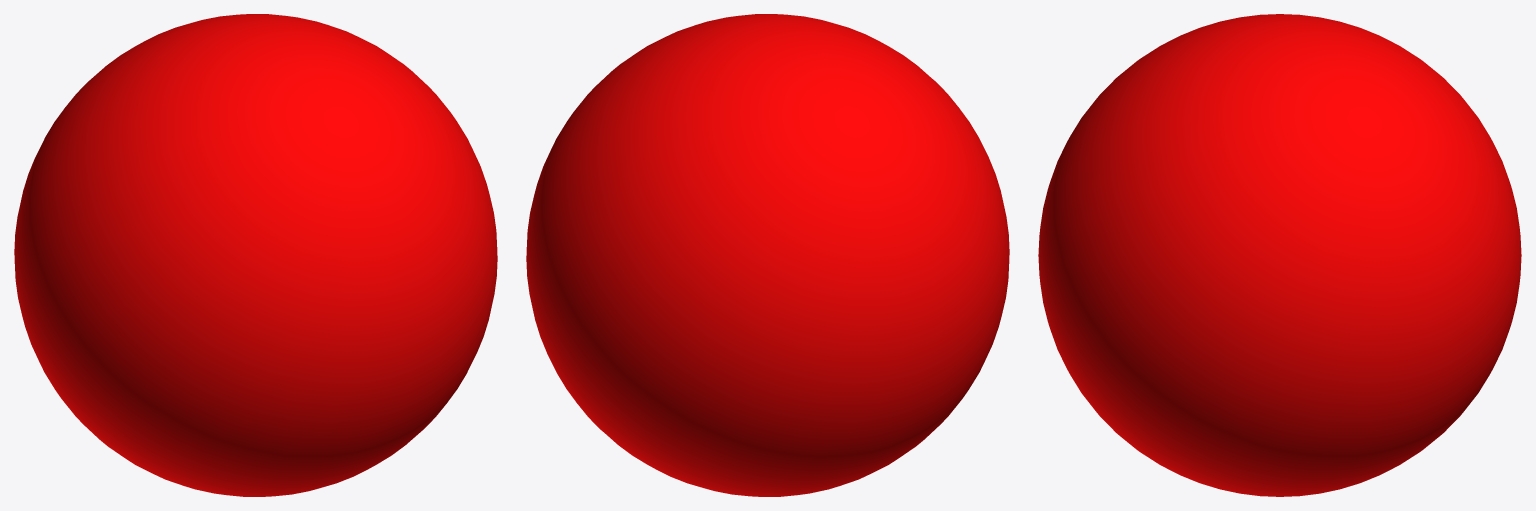
3 renders of one model, left to right at view 1: azimuth 30°, elevation 25°; view 2: azimuth 150°, elevation 25°; view 3: azimuth 270°, elevation 25°, orthographic.
Visible parts, largest first — view 1: Sphere_78B43B75; view 2: Sphere_78B43B75; view 3: Sphere_78B43B75.
Part boxes in pixels (x1,y1,x2,y2): Sphere_78B43B75: (14,14,497,496); Sphere_78B43B75: (526,14,1009,496); Sphere_78B43B75: (1038,14,1521,496).
Size of the model in its own units: 100 by 100 by 100.
